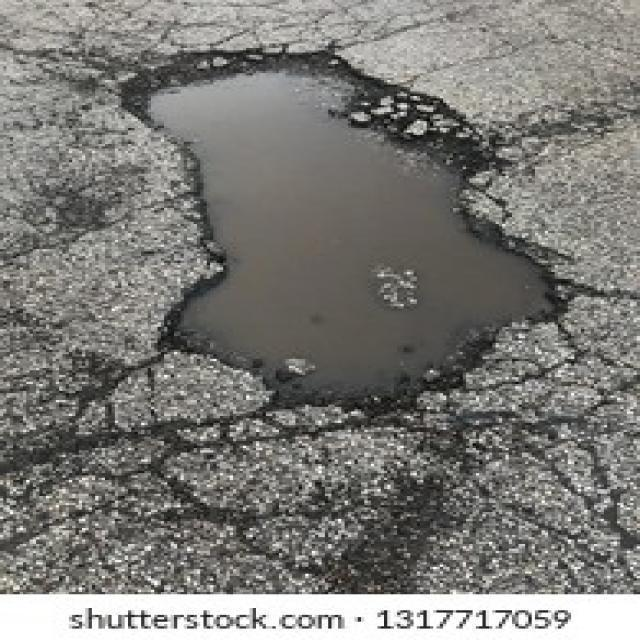Buraco: (110, 38, 576, 424)
